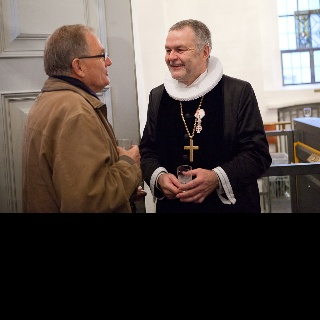without_mask: (165, 29, 201, 81), (83, 32, 111, 86)
